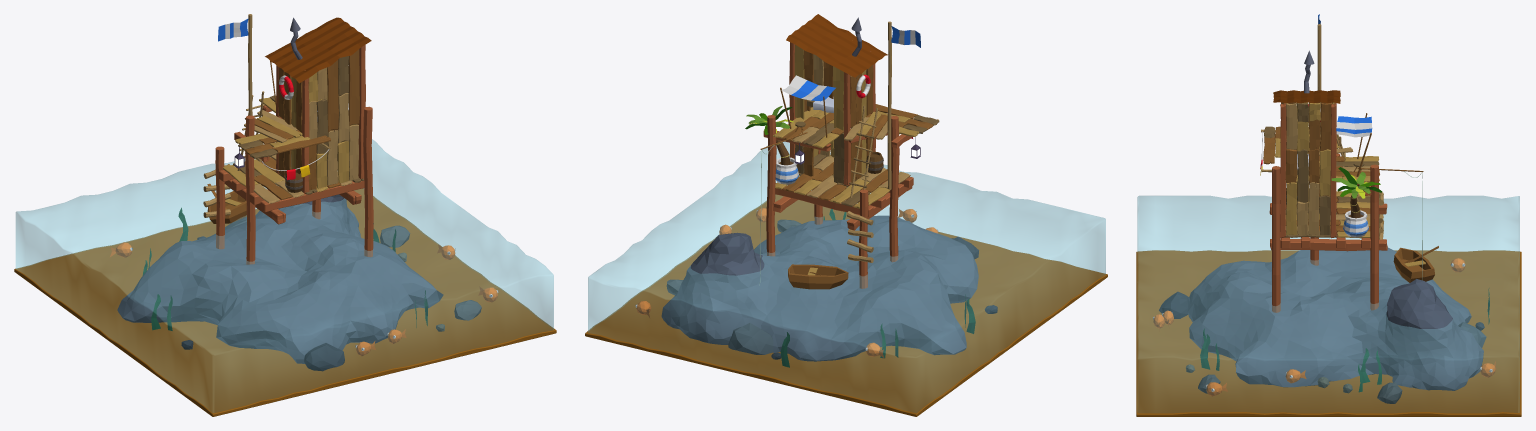
Rendered from seashack_original.glb.
3 views of the same model, side by side, from view 1: azimuth 30°, elevation 25°; view 2: azimuth 150°, elevation 25°; view 3: azimuth 270°, elevation 25° (orthographic). The views are drawn at different scales.
Parts seen in each view (by area): view 1: sea, sand, rocks, seashack, roof, fishes, seaweed, boat; view 2: sea, rocks, sand, seashack, roof, boat, fishes, seaweed, tent, vase, tree_leaves; view 3: sea, rocks, sand, seashack, fishes, boat, roof, seaweed, tree_leaves, tent, vase.
Part boxes in pixels (bbox=[...]): sea: bbox=[15, 139, 553, 412]; sand: bbox=[14, 188, 556, 416]; rocks: bbox=[117, 194, 481, 371]; seashack: bbox=[203, 14, 373, 264]; roof: bbox=[265, 17, 371, 83]; fishes: bbox=[110, 242, 498, 356]; seaweed: bbox=[142, 207, 427, 330]; boat: bbox=[207, 191, 246, 223]; sea: bbox=[588, 141, 1105, 412]; rocks: bbox=[661, 215, 997, 361]; sand: bbox=[585, 194, 1107, 416]; seashack: bbox=[763, 21, 939, 288]; roof: bbox=[786, 14, 887, 77]; boat: bbox=[788, 264, 848, 289]; fishes: bbox=[635, 208, 938, 358]; seaweed: bbox=[780, 209, 975, 367]; tent: bbox=[781, 75, 835, 101]; vase: bbox=[775, 157, 798, 184]; tree_leaves: bbox=[745, 106, 793, 134]; sea: bbox=[1137, 195, 1519, 412]; rocks: bbox=[1159, 247, 1486, 403]; sand: bbox=[1136, 250, 1521, 416]; seashack: bbox=[1261, 24, 1387, 312]; fishes: bbox=[1153, 258, 1496, 396]; boat: bbox=[1393, 247, 1434, 282]; roof: bbox=[1273, 90, 1340, 103]; seaweed: bbox=[1200, 288, 1489, 392]; tree_leaves: bbox=[1331, 167, 1382, 198]; tent: bbox=[1336, 116, 1372, 137]; vase: bbox=[1343, 210, 1368, 237].
Size of the model in its own units: 20.29 by 17.68 by 20.29.
